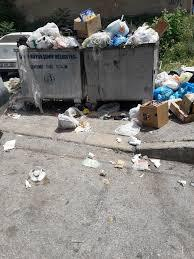Garbage: (58, 107, 192, 140), (30, 16, 155, 44), (157, 70, 194, 124), (73, 5, 109, 46), (112, 151, 171, 175), (24, 21, 62, 47), (3, 70, 22, 119), (78, 151, 105, 174), (106, 21, 134, 38), (57, 111, 78, 133), (133, 20, 154, 42), (3, 138, 26, 156), (98, 105, 127, 119), (175, 79, 194, 100), (155, 82, 175, 100), (176, 176, 194, 190)
